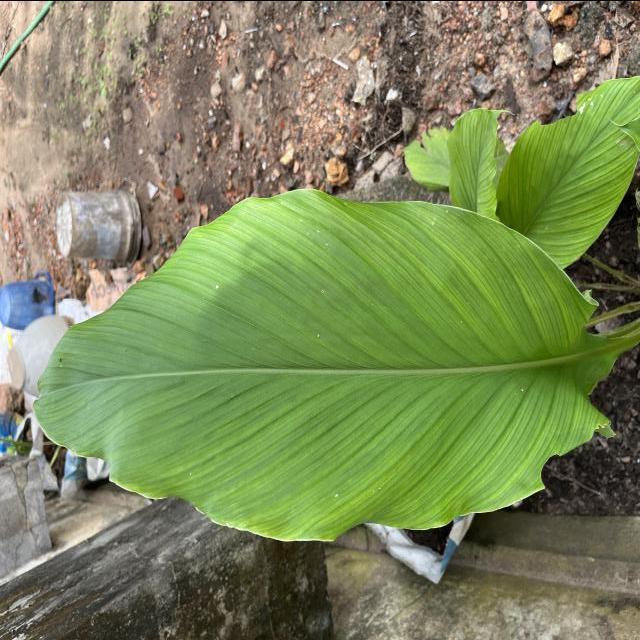Curcuma longa: (28, 185, 622, 544)
